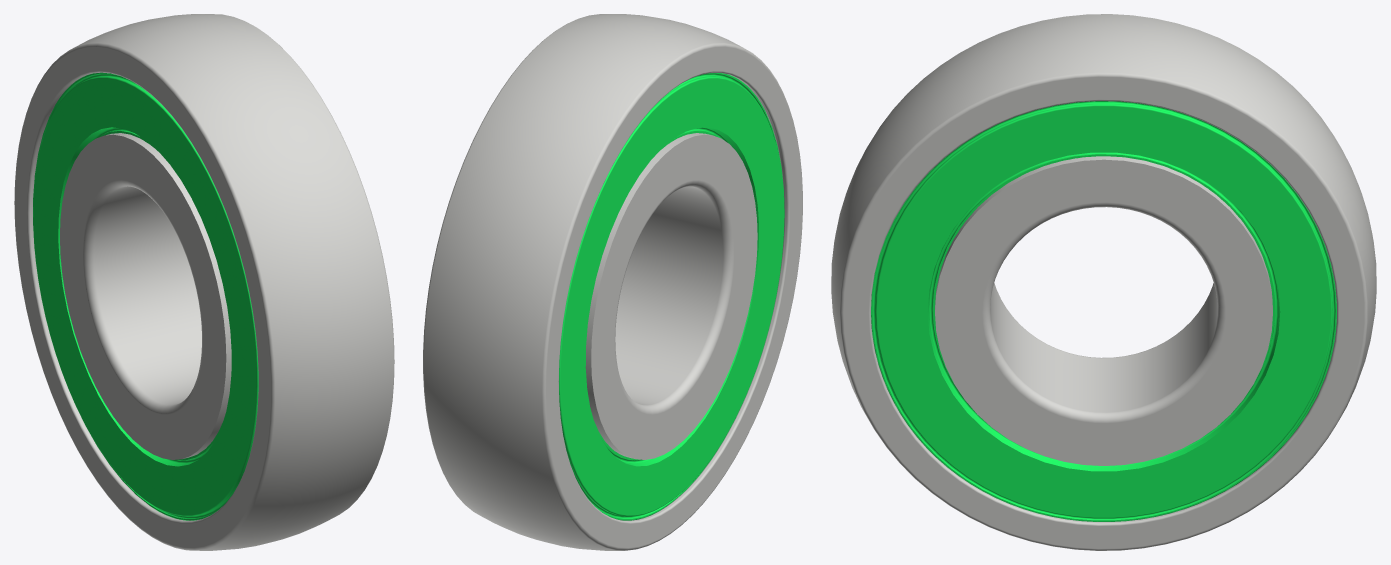
The picture shows the model from 3 angles, left to right: view 1: azimuth 30°, elevation 25°; view 2: azimuth 150°, elevation 25°; view 3: azimuth 270°, elevation 25°; orthographic projection.
Parts seen in each view (by area): view 1: matte platinum, color-2; view 2: matte platinum, color-2; view 3: matte platinum, color-2.
Part boxes in pixels (x1=…): matte platinum: x1=14, y1=14, x2=394, y2=550; color-2: x1=33, y1=72, x2=258, y2=520; matte platinum: x1=423, y1=14, x2=802, y2=550; color-2: x1=559, y1=73, x2=784, y2=520; matte platinum: x1=831, y1=14, x2=1376, y2=550; color-2: x1=871, y1=101, x2=1336, y2=521.
Size of the model in its own units: 0.019 by 0.0719 by 0.0719.
